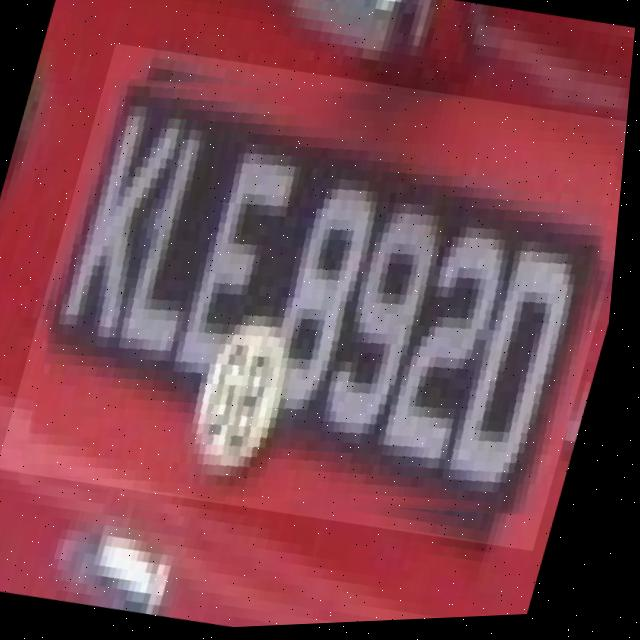LicensePlate: (0, 27, 637, 576)
